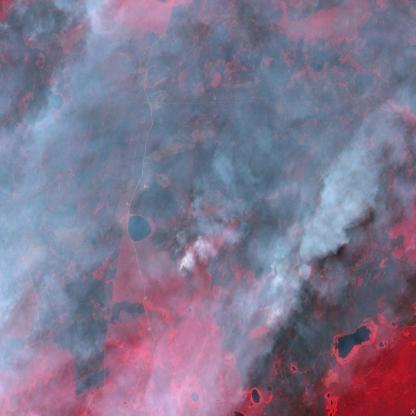fire: (5, 0, 103, 49), (242, 266, 285, 349), (159, 233, 197, 288)
